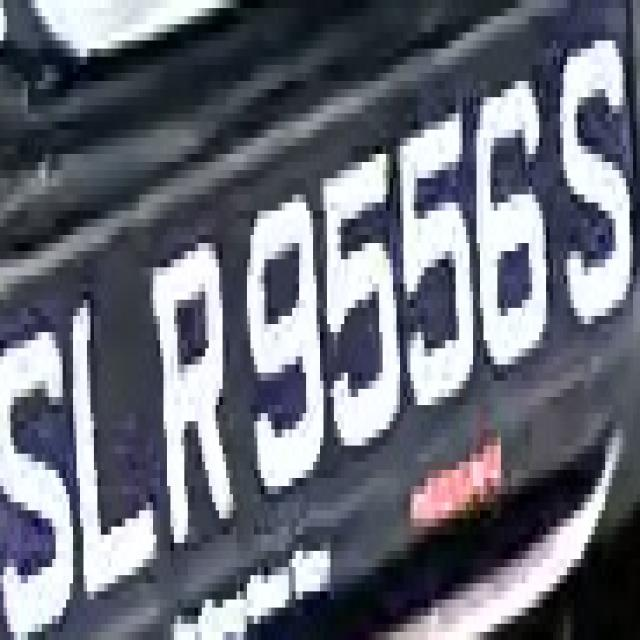5: (316, 138, 404, 470), (396, 106, 476, 422)
6: (466, 73, 550, 389)
9: (240, 178, 323, 519)
L: (70, 267, 156, 608)
R: (142, 227, 236, 567)
S: (542, 24, 636, 332), (13, 283, 69, 640)
